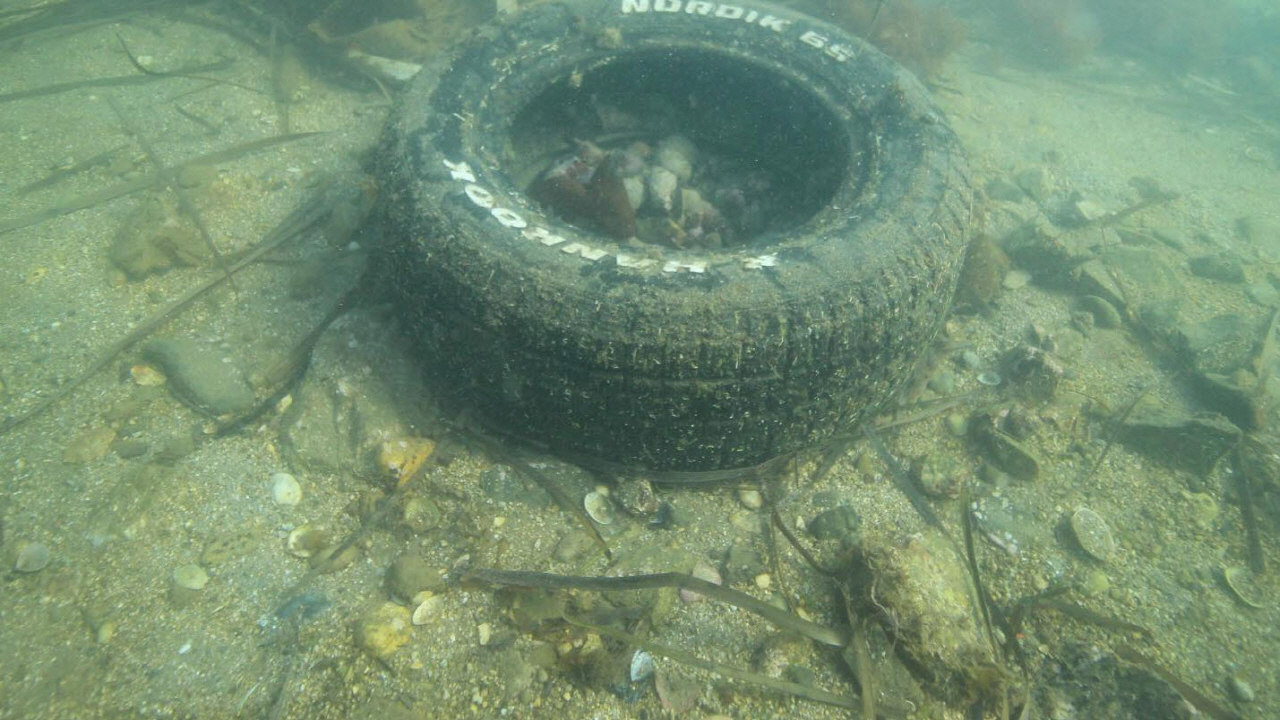tire: (373, 0, 974, 472)
